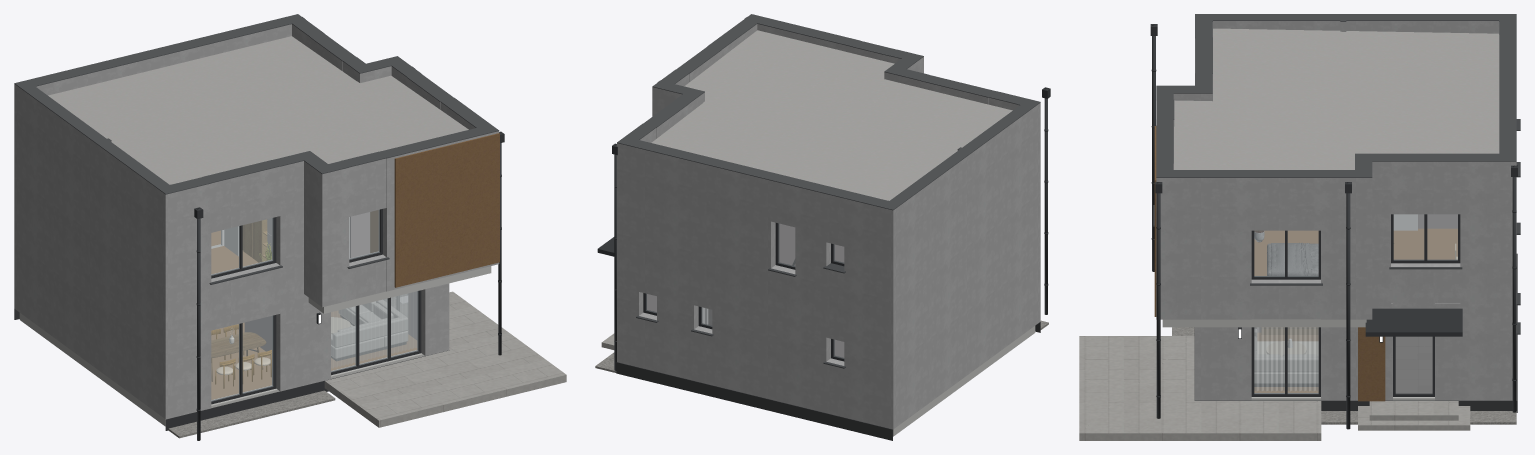
The model's file is house_stano_v2.glb.
3 views of the same model, side by side, from view 1: azimuth 30°, elevation 25°; view 2: azimuth 150°, elevation 25°; view 3: azimuth 270°, elevation 25° (orthographic). The views are drawn at different scales.
Visible parts, largest first — view 1: Shell, accent_clad_S, D1_S_1.09_HS_glass, curtain_sheer_S, D1_S_1.08_glass, W2_S_2.02_glass, W2_S_2.03_glass, D1_S_1.09_HS_frame, Nordic Harmony Wardrobe, sect_back_s, D1_S_1.08_frame, downpipe2 (+4 smaller); view 2: Shell, downpipe2, W2_N_2.06_stair_glass, downpipe0; view 3: Shell, D1_E_terrace_1.09_glass, curtain_sheer_E, W2_E_2.04_glass, W2_E_2.05_glass, canopy, accent_clad_E, downpipe3, downpipe0, downpipe1, sect_back_e, D1_E_terrace_1.09_frame (+8 smaller).
Boxes of the visible parts, box(x1,y1,x2,y2) form: Shell: box(14, 14, 566, 438); accent_clad_S: box(394, 133, 499, 287); D1_S_1.09_HS_glass: box(331, 291, 418, 371); curtain_sheer_S: box(331, 291, 416, 367); D1_S_1.08_glass: box(211, 316, 273, 401); W2_S_2.02_glass: box(211, 218, 273, 275); W2_S_2.03_glass: box(349, 210, 379, 259); D1_S_1.09_HS_frame: box(331, 290, 421, 375); Nordic Harmony Wardrobe: box(242, 218, 271, 262); sect_back_s: box(333, 317, 403, 347); D1_S_1.08_frame: box(211, 315, 276, 404); downpipe2: box(197, 208, 200, 440); Shell: box(595, 14, 1048, 440); downpipe2: box(1044, 88, 1047, 314); W2_N_2.06_stair_glass: box(778, 223, 794, 266); downpipe0: box(614, 144, 616, 370); Shell: box(1079, 14, 1517, 440); D1_E_terrace_1.09_glass: box(1254, 327, 1318, 393); curtain_sheer_E: box(1254, 327, 1318, 390); W2_E_2.04_glass: box(1254, 231, 1318, 276); W2_E_2.05_glass: box(1394, 214, 1457, 259); canopy: box(1365, 308, 1462, 336); accent_clad_E: box(1358, 327, 1385, 401); downpipe3: box(1346, 182, 1350, 429); downpipe0: box(1512, 165, 1516, 412); downpipe1: box(1156, 182, 1160, 418); sect_back_e: box(1254, 356, 1318, 371); D1_E_terrace_1.09_frame: box(1251, 327, 1320, 396).
Size of what is drawn, in the model's own units: 10.98 by 7.18 by 11.4.
105 materials, 51 textured.
